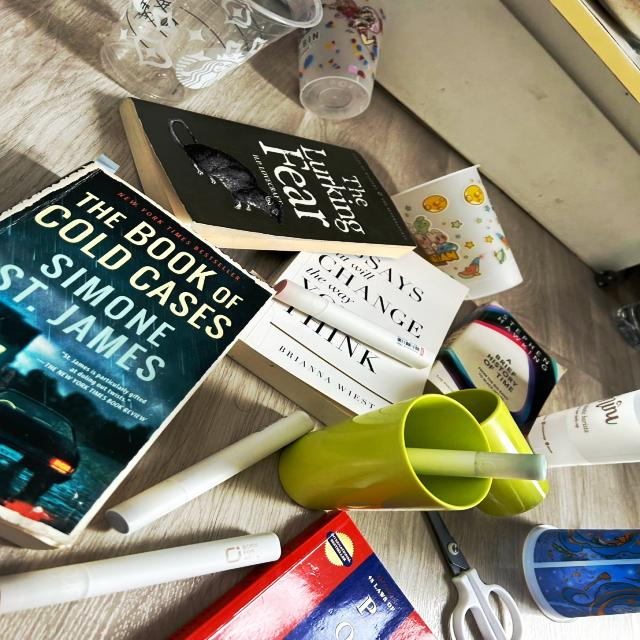Book: (0, 163, 270, 549), (120, 98, 414, 257), (229, 248, 470, 426), (168, 512, 437, 640), (425, 301, 570, 435)
HighLight Pen: (106, 410, 318, 533), (0, 533, 280, 614), (275, 279, 434, 371), (406, 447, 548, 483)
Plastic Cup: (101, 0, 320, 104), (393, 166, 522, 299), (522, 525, 639, 622), (299, 0, 385, 120), (527, 390, 639, 468)
Scissors: (429, 512, 522, 640)
WaterGlass: (279, 394, 494, 512), (446, 389, 531, 454), (475, 473, 551, 519)
